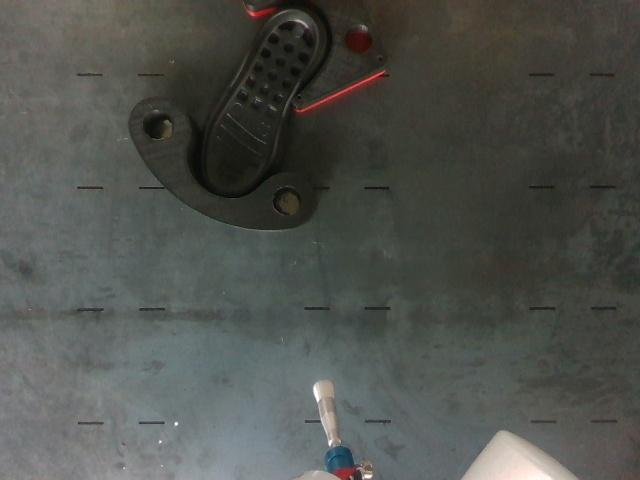shoes: (203, 9, 317, 196)
